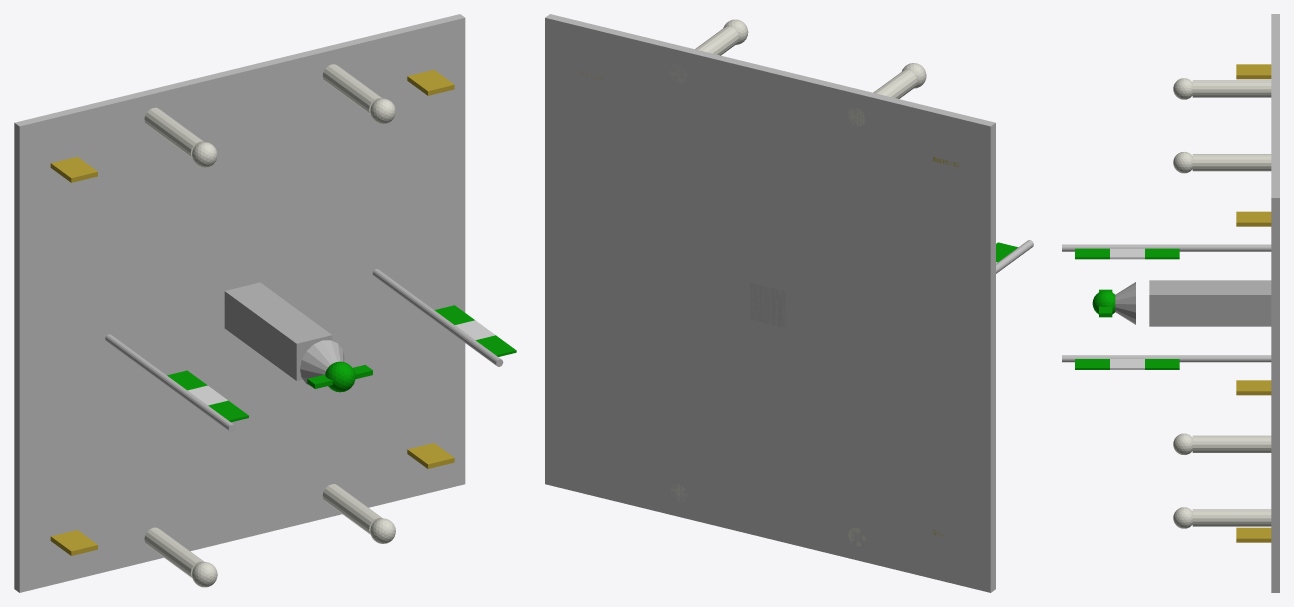
File: national_monuments.glb
3 renders of one model, left to right at view 1: azimuth 30°, elevation 25°; view 2: azimuth 150°, elevation 25°; view 3: azimuth 270°, elevation 25°, orthographic. The views are drawn at different scales.
Visible parts, largest first — view 1: world; view 2: world; view 3: world.
Part boxes in pixels (<box>): world: <box>14,14,516,592</box>; world: <box>545,14,1033,592</box>; world: <box>1062,14,1279,592</box>.
Size of the model in its own units: 10 by 10 by 5.
